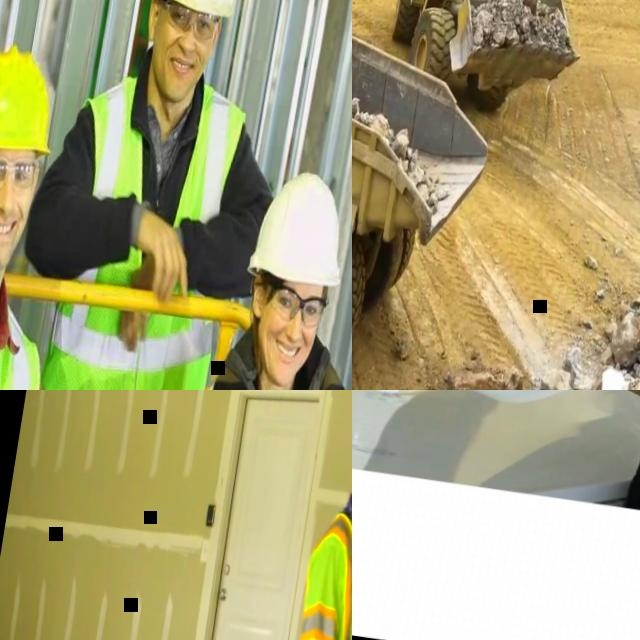Hardhat: (247, 161, 352, 295), (0, 39, 64, 169), (145, 0, 247, 22)
Mask: (431, 390, 589, 418)
NO-Mask: (147, 43, 209, 107), (253, 329, 311, 390), (0, 202, 25, 273)
NO-Safety Vest: (377, 390, 640, 518)
Person: (0, 0, 317, 390), (0, 35, 184, 390), (158, 155, 352, 390), (370, 390, 640, 525), (224, 391, 352, 640)
Safety Vest: (25, 62, 258, 390), (284, 509, 352, 640)
machinery: (352, 0, 518, 390), (377, 0, 606, 142)
